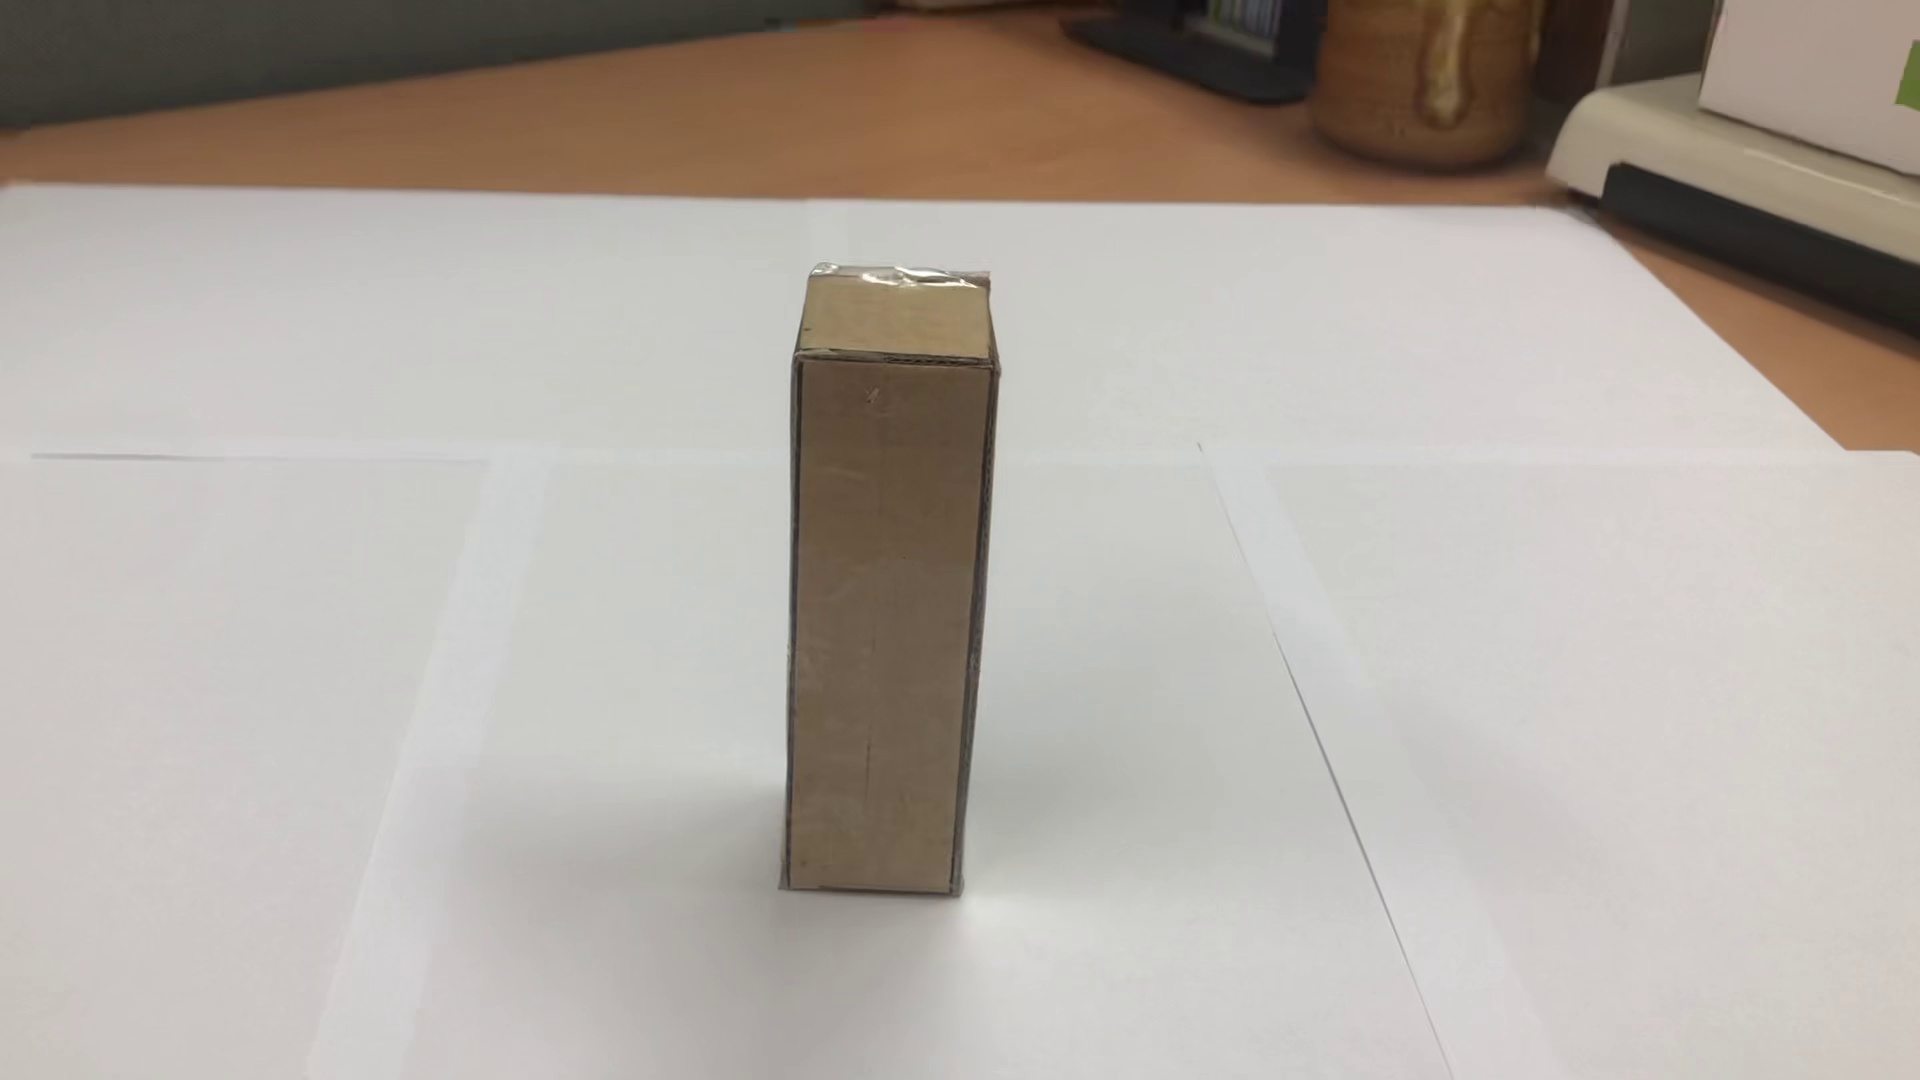box: (760, 214, 1013, 931)
